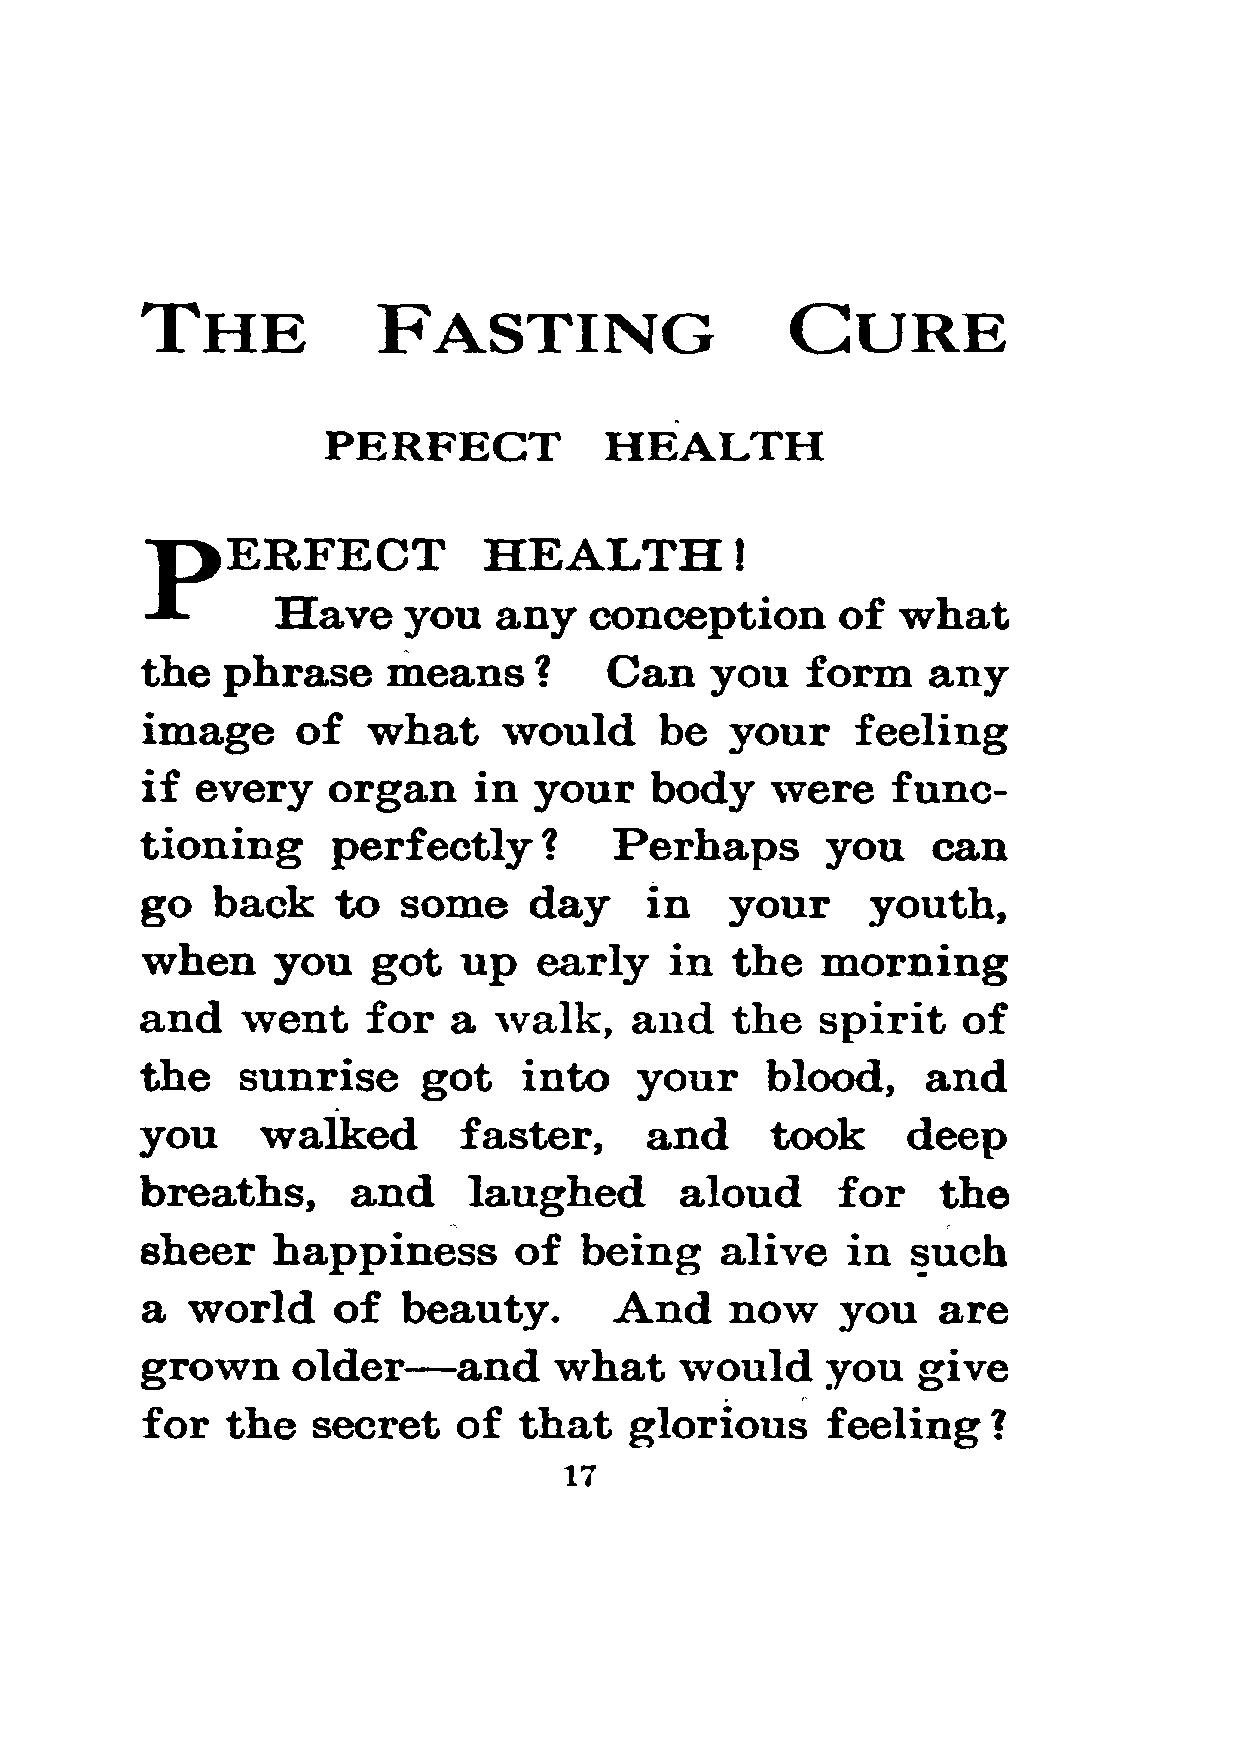chapter: (137, 297, 1006, 466)
content: (140, 533, 1011, 1452)
content_pagenumber: (561, 1461, 599, 1491)
